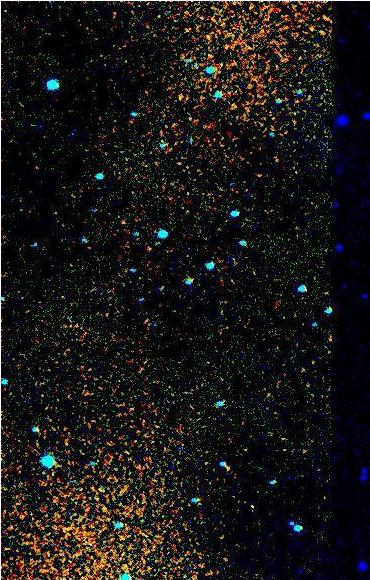star: (131, 237, 161, 267)
